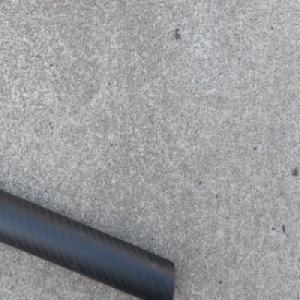LuggagePart: (0, 187, 175, 300)
